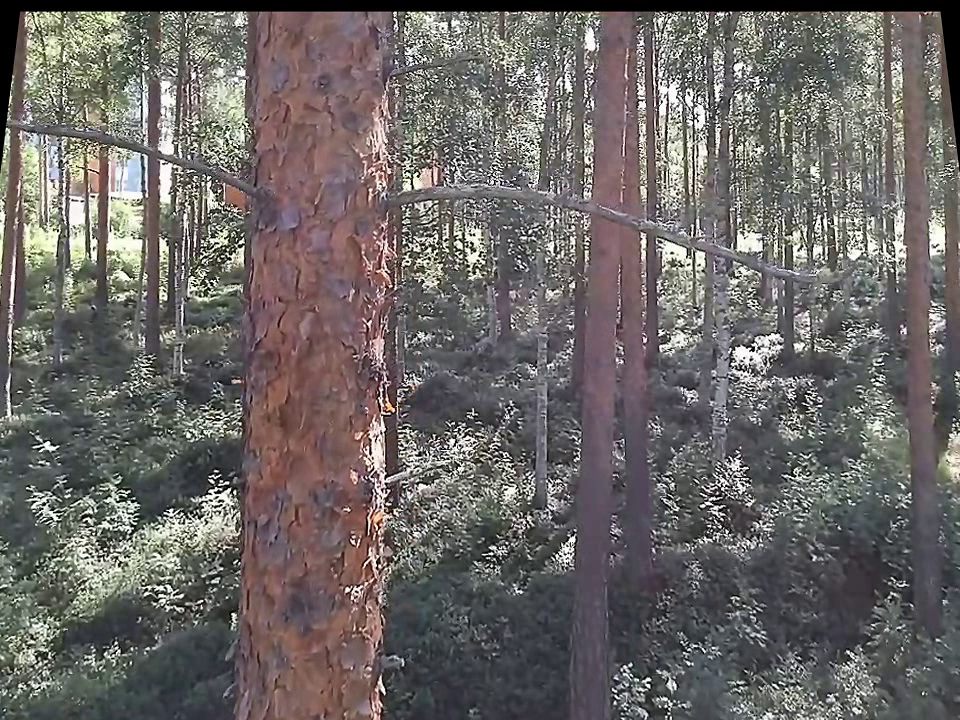branch: (397, 173, 864, 301), (2, 102, 272, 205)
trunk: (228, 16, 397, 713), (560, 25, 623, 711), (893, 21, 951, 620), (696, 135, 737, 462), (520, 212, 556, 510), (140, 22, 168, 367), (636, 38, 665, 369)
